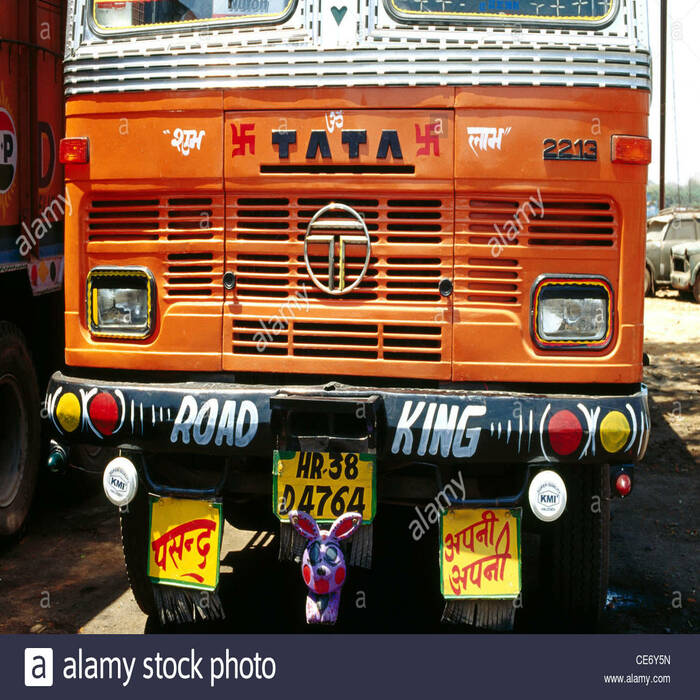n: (268, 439, 375, 520)
